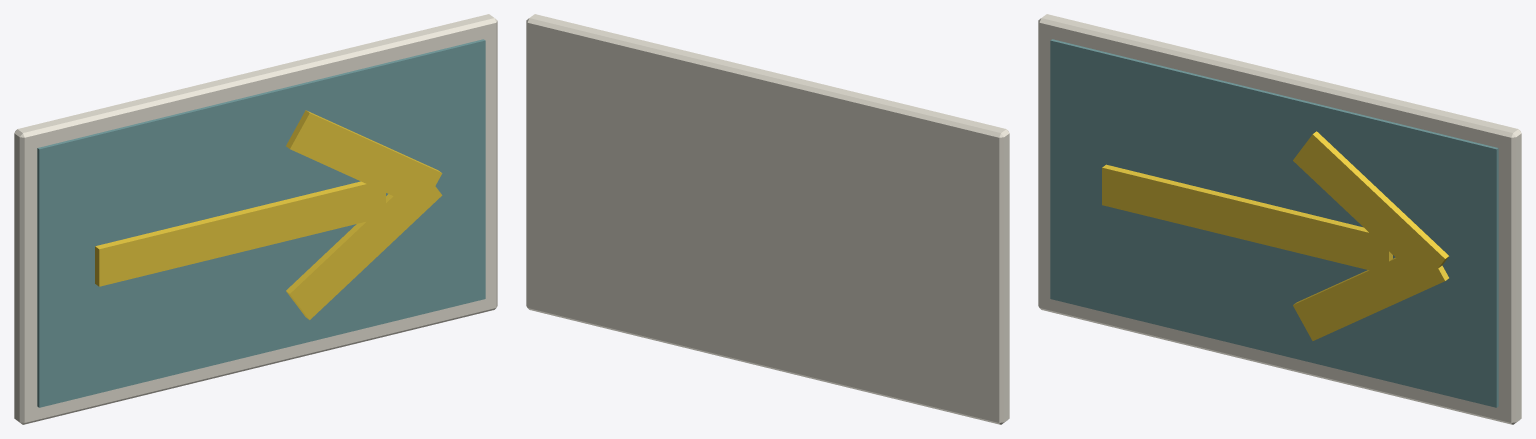
File: wall_sign_arrow.glb
3 renders of one model, left to right at view 1: azimuth 30°, elevation 25°; view 2: azimuth 150°, elevation 25°; view 3: azimuth 330°, elevation 25°, orthographic.
Visible parts, largest first — view 1: wall_sign_arrow; view 2: wall_sign_arrow; view 3: wall_sign_arrow.
Boxes of the visible parts, <box> form: wall_sign_arrow: <box>14,14,497,424</box>; wall_sign_arrow: <box>526,14,1009,424</box>; wall_sign_arrow: <box>1038,14,1521,424</box>.
Bounding box in the file's own units: 0.6 × 0.35 × 0.033.
